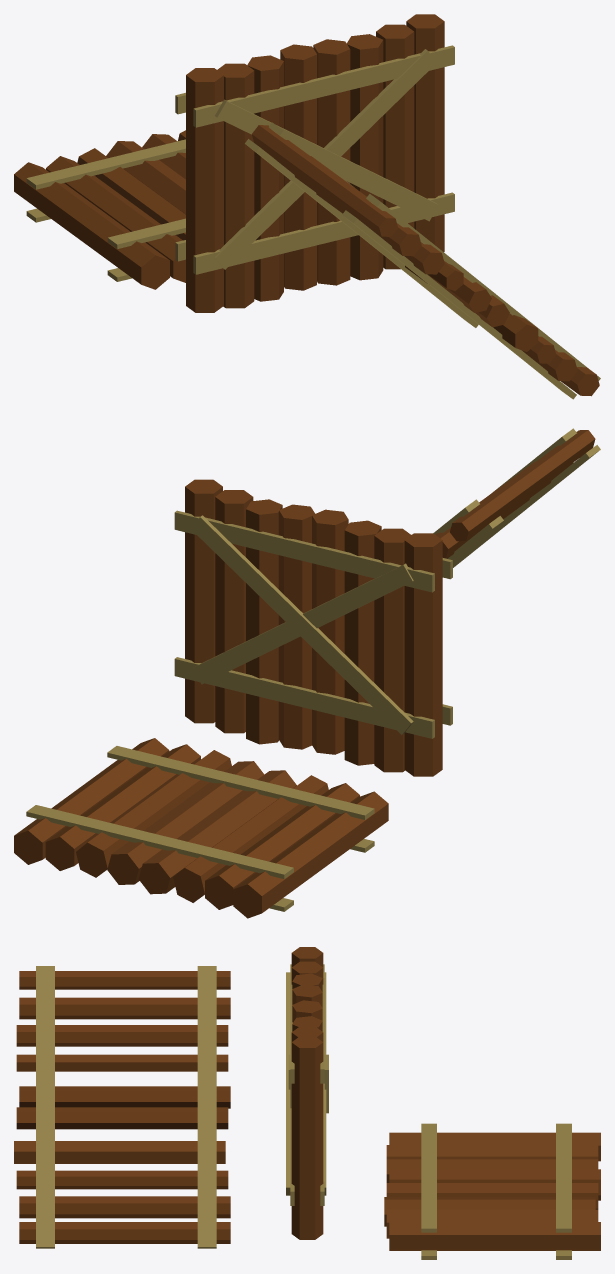
The model's file is Building Panels.fbx.
The picture shows the model from 3 angles, top to bottom: view 1: azimuth 30°, elevation 25°; view 2: azimuth 150°, elevation 25°; view 3: azimuth 270°, elevation 25°; orthographic projection. The views are drawn at different scales.
Parts seen in each view (by area): view 1: Build Walls, Build Floor/ Roof, Build Stairs; view 2: Build Walls, Build Floor/ Roof, Build Stairs; view 3: Build Stairs, Build Floor/ Roof, Build Walls.
Part boxes in pixels (x1,y1,x2,y2): Build Walls: (175,14,454,312); Build Floor/ Roof: (14,130,185,289); Build Stairs: (245,122,600,399); Build Walls: (174,479,452,776); Build Floor/ Roof: (14,738,388,918); Build Stairs: (433,428,600,567); Build Stairs: (14,966,230,1248); Build Floor/ Roof: (384,1123,600,1259); Build Walls: (286,947,328,1239).
Size of the model in its own units: 940 by 884 by 2220.
